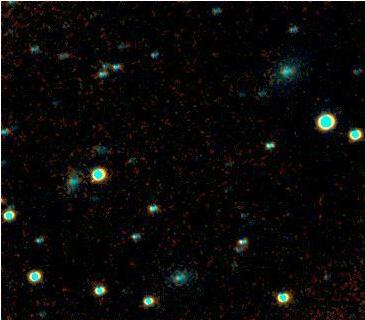star: (76, 165, 106, 195)
